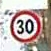limite 30: (8, 9, 42, 43)
